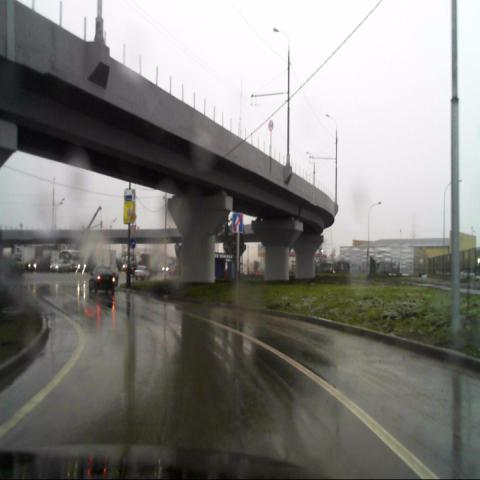5_6: (232, 213, 243, 232)
